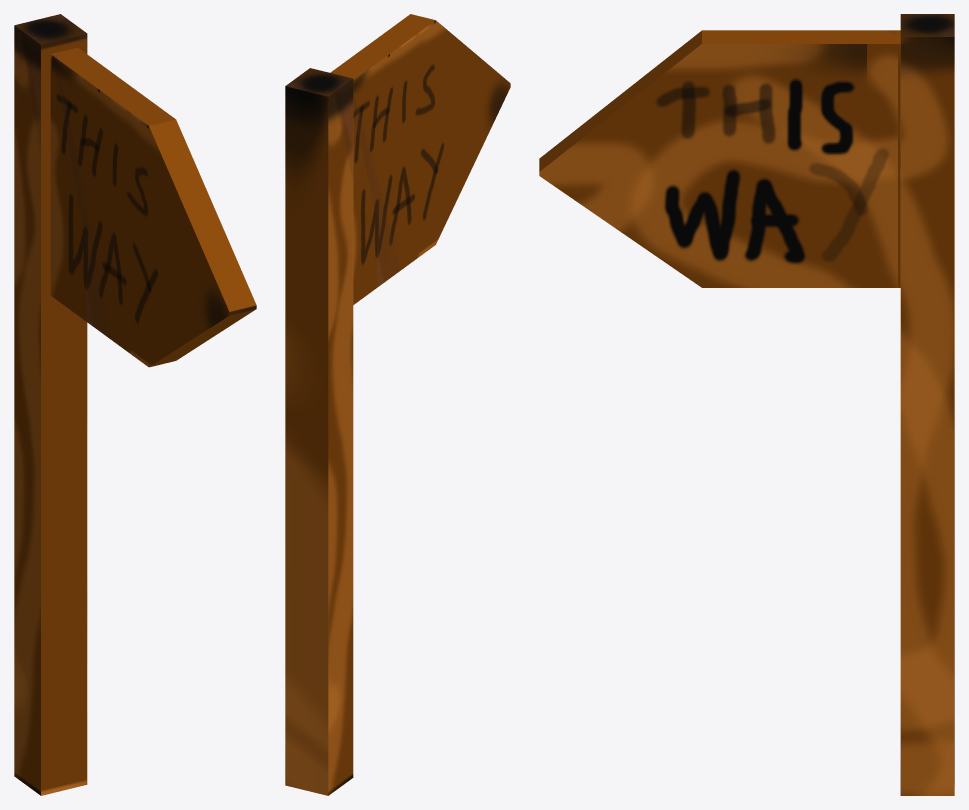
The model's file is panneau.glb.
3 renders of one model, left to right at view 1: azimuth 30°, elevation 25°; view 2: azimuth 150°, elevation 25°; view 3: azimuth 270°, elevation 25°, orthographic. The views are drawn at different scales.
Parts seen in each view (by area): view 1: Panneau; view 2: Panneau; view 3: Panneau.
Part boxes in pixels (bbox=[...]): Panneau: bbox=[14, 14, 256, 795]; Panneau: bbox=[285, 14, 510, 795]; Panneau: bbox=[539, 14, 954, 795].
Bounding box in the file's own units: 2.54 × 39.29 × 19.49.
Materials: 1 (1 with a texture image).
